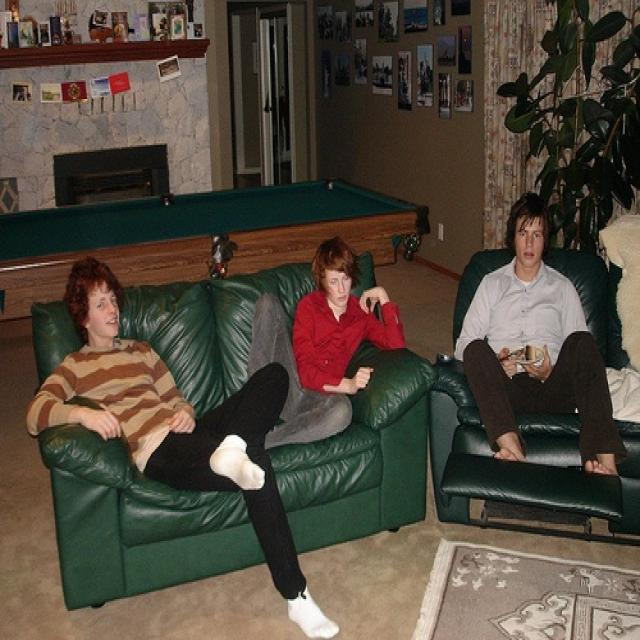sofa: (27, 248, 439, 620), (429, 244, 639, 533)
